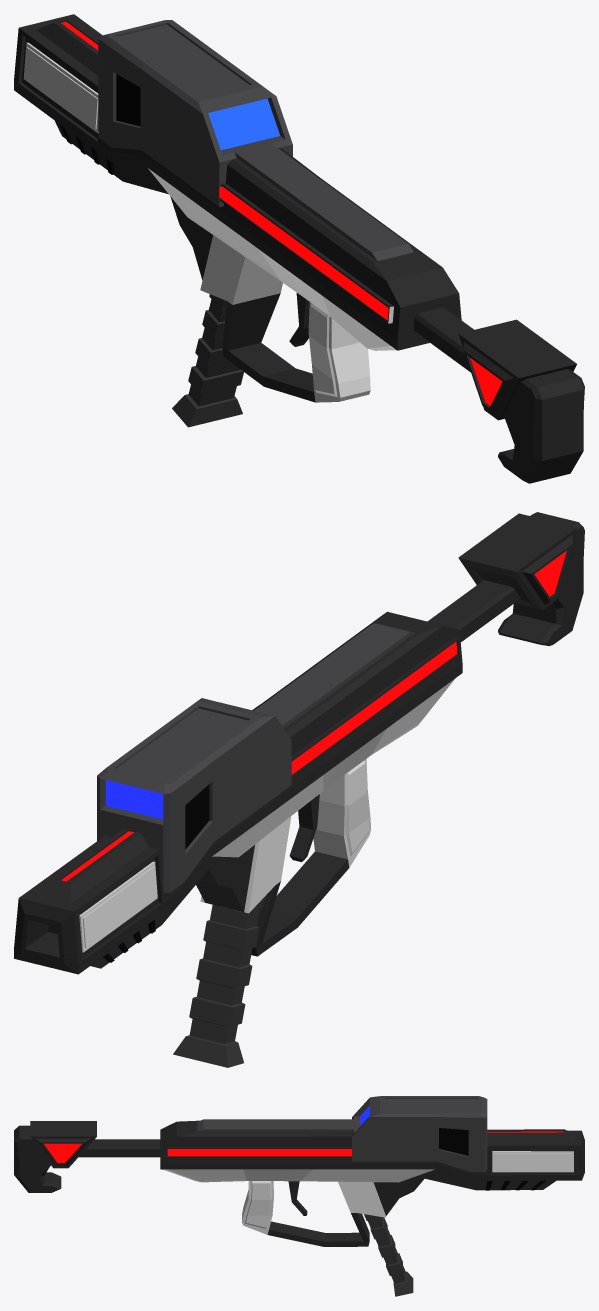
The model's file is SciFiRifle.fbx.
3 views of the same model, one above another, from view 1: azimuth 30°, elevation 25°; view 2: azimuth 150°, elevation 25°; view 3: azimuth 270°, elevation 25° (orthographic). The views are drawn at different scales.
Visible parts, largest first — view 1: Gun, Mag; view 2: Gun, Mag; view 3: Gun, Mag.
Boxes of the visible parts, left/top/right/bottom form: Gun: left=14, top=14, right=584, bottom=483; Mag: left=172, top=294, right=243, bottom=427; Gun: left=14, top=512, right=584, bottom=974; Mag: left=173, top=897, right=264, bottom=1067; Gun: left=14, top=1096, right=584, bottom=1246; Mag: left=364, top=1214, right=413, bottom=1296.
Bounding box in the file's own units: 133 × 580 × 1624.
